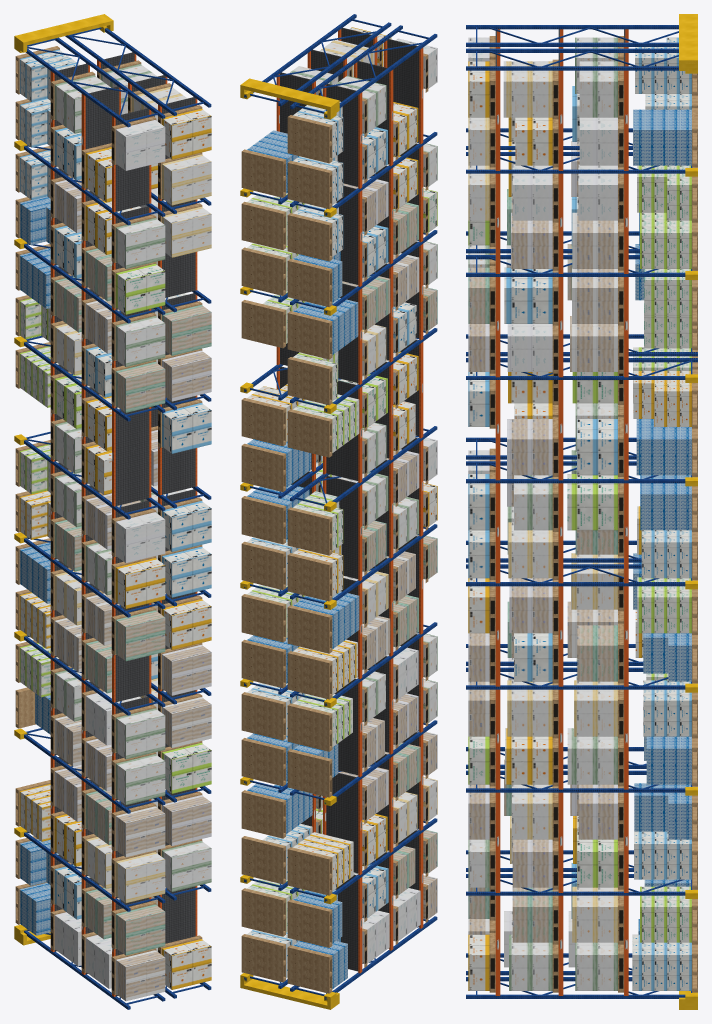
Rendered from racks_e0_s.gltf.
3 renders of one model, left to right at view 1: azimuth 30°, elevation 25°; view 2: azimuth 150°, elevation 25°; view 3: azimuth 270°, elevation 25°, orthographic. The views are drawn at different scales.
Parts seen in each view (by area): view 1: racks_e0_s; view 2: racks_e0_s; view 3: racks_e0_s.
Boxes of the visible parts, bbox=[...] form: racks_e0_s: bbox=[14, 14, 211, 1009]; racks_e0_s: bbox=[240, 14, 437, 1009]; racks_e0_s: bbox=[466, 14, 697, 1009].
Size of the model in its own units: 2.6 by 24.86 by 5.5.
Materials: 18 (18 with a texture image).
